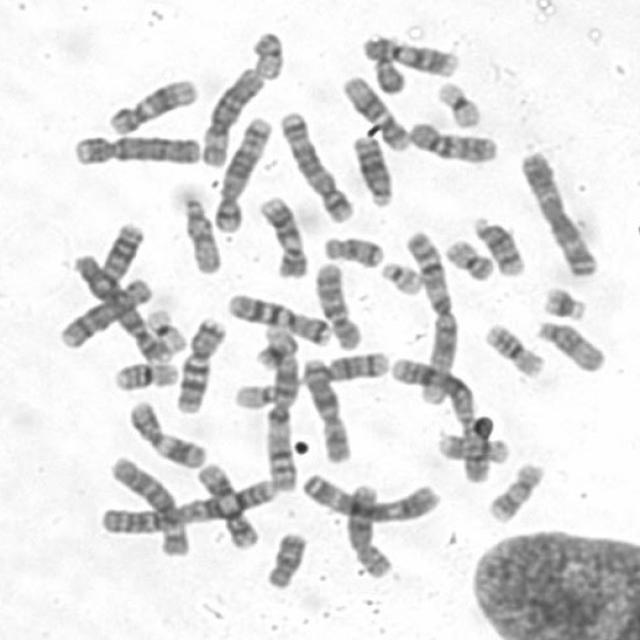A1: (400, 227, 460, 408), (263, 358, 302, 491)
A2: (386, 352, 492, 487), (95, 474, 282, 535)
A3: (516, 145, 600, 280), (298, 469, 442, 523)
B4: (69, 249, 173, 364), (69, 129, 203, 167)
B5: (276, 108, 354, 224), (209, 111, 273, 233)
C10: (310, 257, 363, 351), (404, 117, 499, 164)
C11: (193, 460, 259, 550), (125, 398, 206, 470)
C12: (103, 74, 200, 138), (339, 71, 410, 152)
C6: (104, 453, 191, 558), (198, 64, 266, 168)
C7: (222, 289, 332, 345), (172, 314, 227, 414)
C8: (56, 274, 154, 350), (342, 481, 393, 578)
C9: (358, 32, 461, 78), (256, 192, 309, 281)
D13: (347, 132, 394, 208), (99, 225, 147, 284)
D14: (470, 212, 528, 277), (314, 346, 389, 384)
D15: (535, 317, 607, 373), (180, 190, 222, 274)
E16: (482, 320, 545, 379), (110, 358, 179, 392)
E17: (483, 460, 547, 525), (435, 430, 510, 464)
E18: (262, 526, 311, 591), (320, 232, 387, 270)
F19: (432, 76, 484, 130), (142, 305, 188, 356)
F20: (442, 235, 497, 282), (250, 30, 286, 84)
G21: (540, 283, 589, 322), (255, 335, 302, 366)
G22: (377, 258, 425, 298), (231, 380, 278, 410)
X: (299, 354, 352, 464)
Y: (266, 322, 304, 362)
